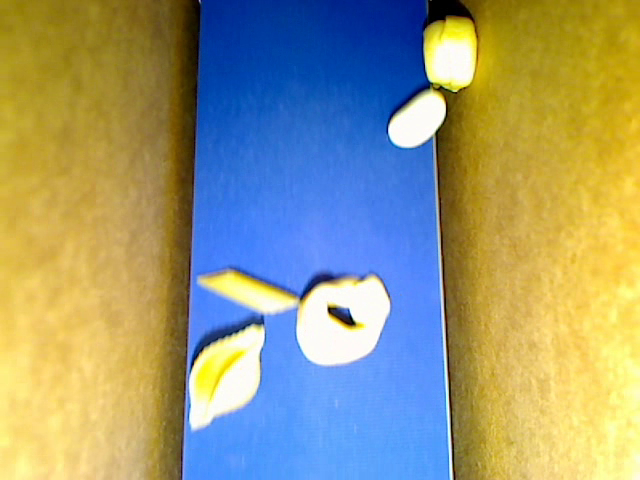penne: (197, 268, 300, 316)
shell: (186, 323, 265, 432)
tortellini: (293, 271, 390, 365)
